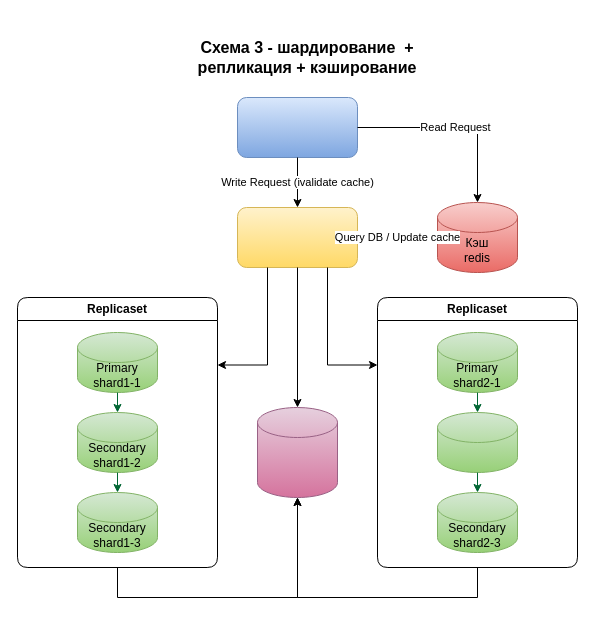
This 595x623 diagram has some shape labels left out. The shapes that lost their labels are listed below. From the top down, each one's box as (x1, y1, x2, y2) in pixels, then its label:
(236, 96, 358, 158): pymongo-api
(236, 206, 358, 268): Роутер mongos
(256, 406, 338, 498): Конфигурационный сервер configSrv
(436, 412, 518, 472): Secondary shard2-2
